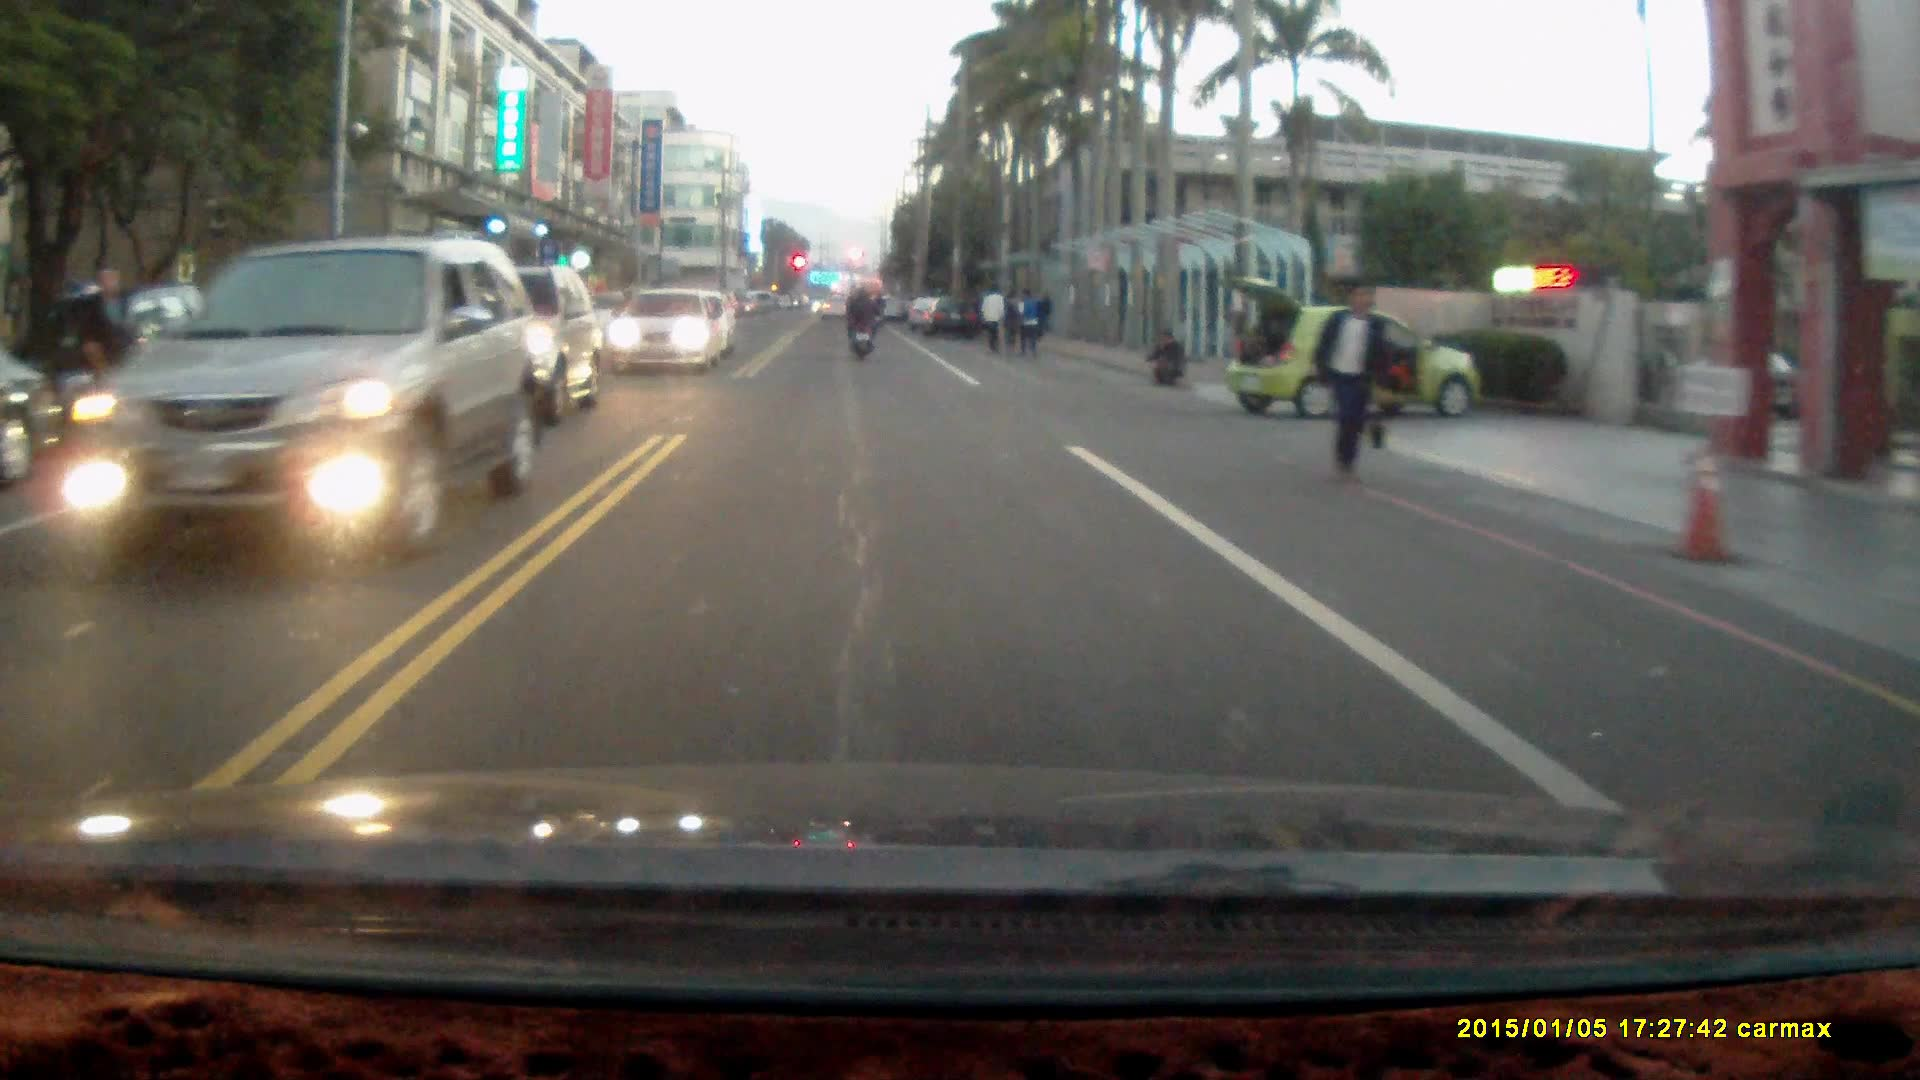pedestrian: (1311, 278, 1393, 494), (1147, 323, 1184, 386), (1018, 281, 1045, 360), (984, 284, 1008, 359), (1000, 285, 1023, 354)
rider: (841, 282, 879, 360)
vehicle: (47, 234, 536, 568), (1220, 270, 1490, 419), (390, 260, 609, 428), (613, 283, 725, 370), (928, 295, 984, 340)
